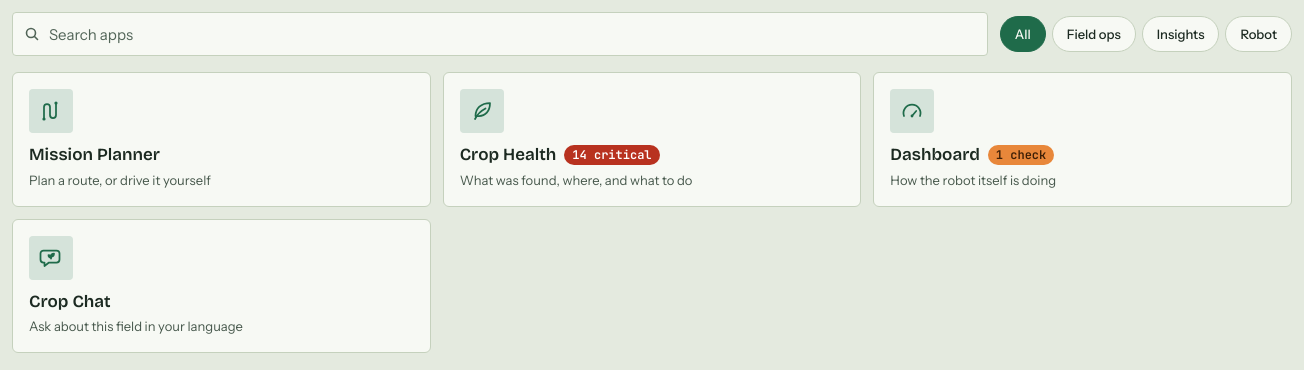
Test: AppBrowser › filters by search text
Type "sprayer" into the search field labelled "Search apps". click: (500, 34)
box: [12, 12, 988, 56]
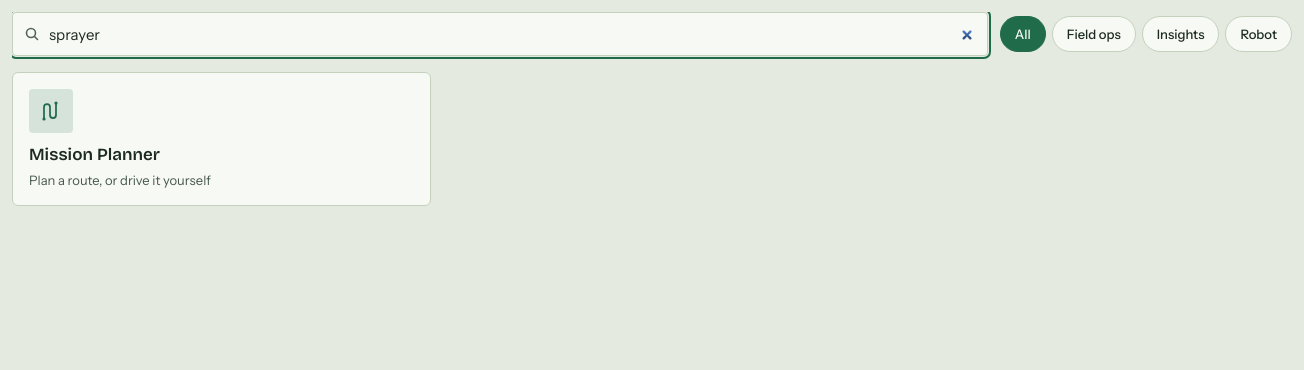
Expected: the link "Mission Planner Plan a route, or drive it yourself" is shown, [12, 72, 431, 206]
Expected: the link "Dashboard" is gone
